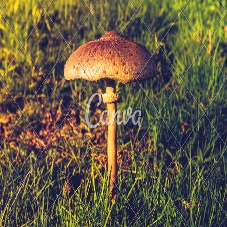mushroom: (66, 32, 164, 201)
